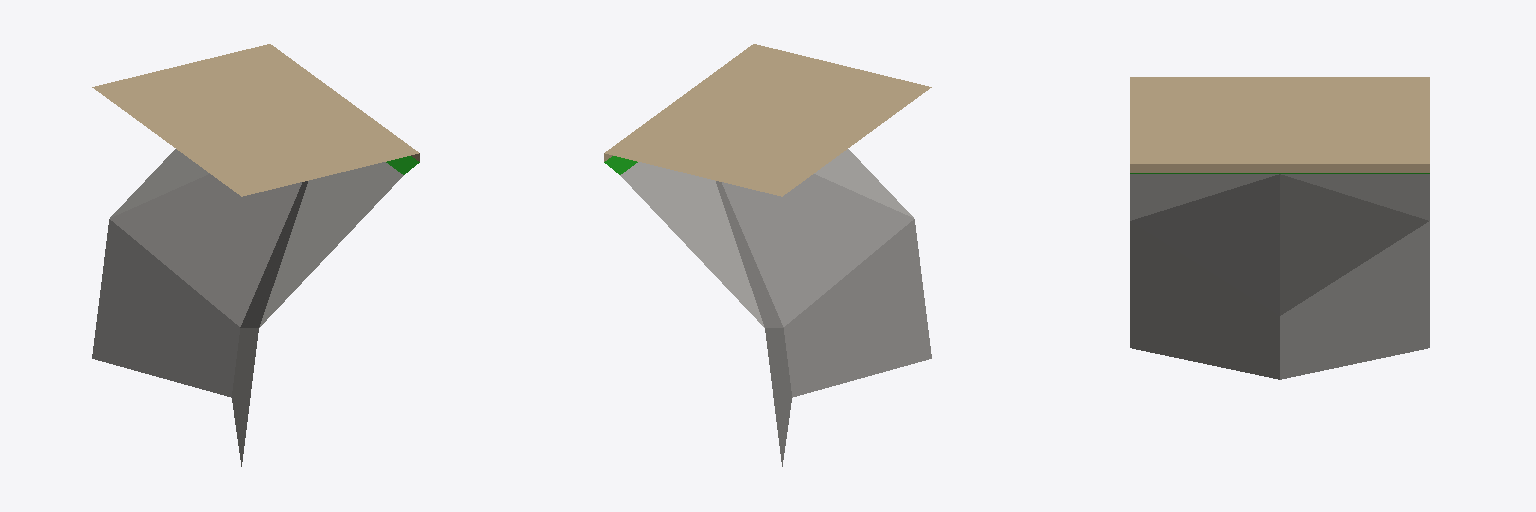
Rendered from Cliff_Terrain_Side_Falloff_Center.obj.
3 views of the same model, side by side, from view 1: azimuth 30°, elevation 25°; view 2: azimuth 150°, elevation 25°; view 3: azimuth 270°, elevation 25° (orthographic).
Parts seen in each view (by area): view 1: object1; view 2: object1; view 3: object1.
Boxes of the visible parts, <box> form: object1: <box>92,44,419,466</box>; object1: <box>604,44,931,466</box>; object1: <box>1130,77,1429,379</box>.
Bounding box in the file's own units: 0.6875 × 1 × 1.